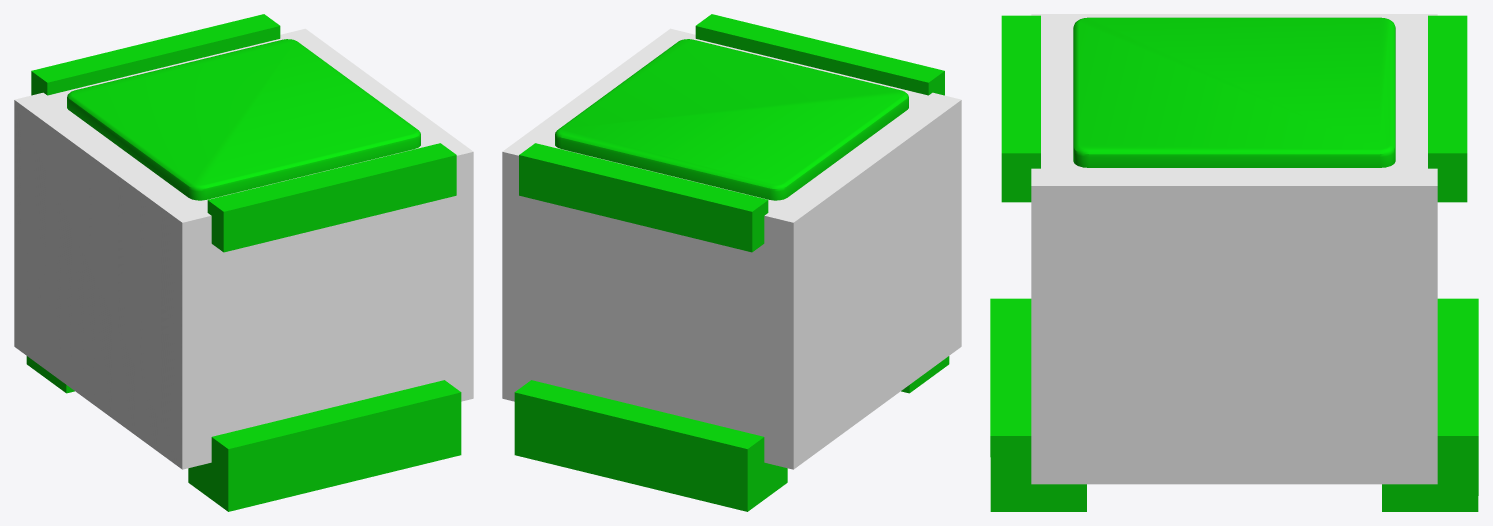
Rendered from TileMetalBridge.fbx.
3 views of the same model, side by side, from view 1: azimuth 30°, elevation 25°; view 2: azimuth 150°, elevation 25°; view 3: azimuth 270°, elevation 25° (orthographic). The views are drawn at different scales.
Parts seen in each view (by area): view 1: TileMetalBridge; view 2: TileMetalBridge; view 3: TileMetalBridge.
Part boxes in pixels (x1,y1,x2,y2): TileMetalBridge: (14,14,473,511); TileMetalBridge: (502,14,961,511); TileMetalBridge: (990,14,1478,511).
Bounding box in the file's own units: 100 × 97.54 × 120.
